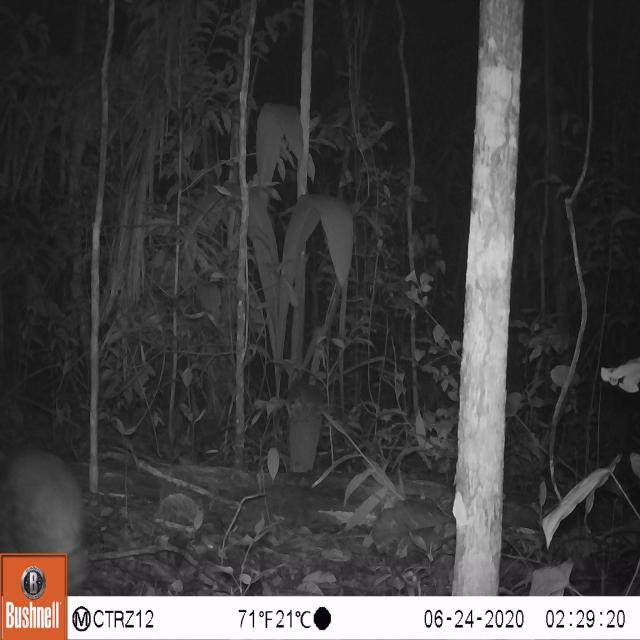Spotted Paca: (0, 436, 103, 591)
